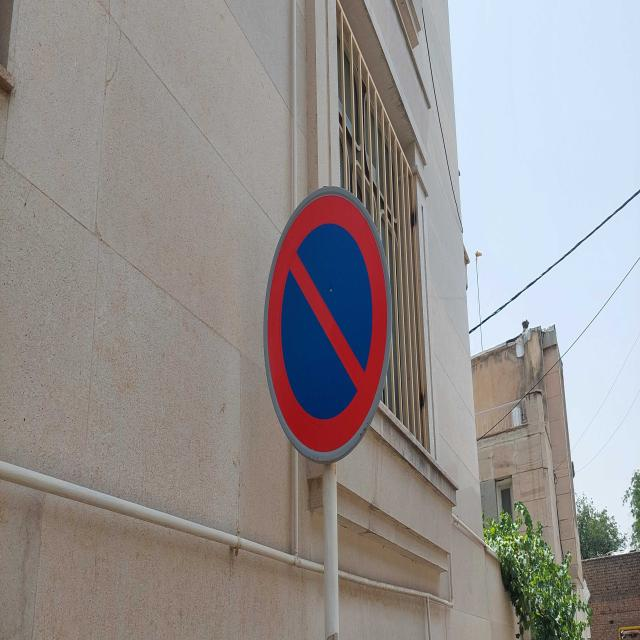forb_stopping: (264, 183, 394, 461)
